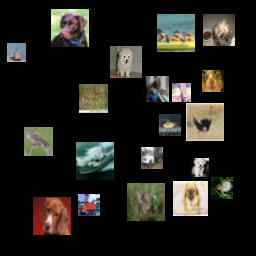bird: (186, 103, 224, 141), (24, 127, 53, 156)
cat: (127, 183, 165, 221), (143, 76, 169, 102), (202, 70, 224, 92)
deer: (79, 84, 108, 113), (172, 83, 191, 102)
dog: (33, 197, 71, 235), (51, 9, 89, 47), (173, 181, 208, 216), (203, 14, 235, 46), (110, 46, 142, 78), (190, 158, 209, 177)
frog: (211, 177, 233, 199)
ship: (157, 14, 195, 52), (76, 142, 114, 180), (159, 114, 181, 136), (7, 43, 26, 62)
